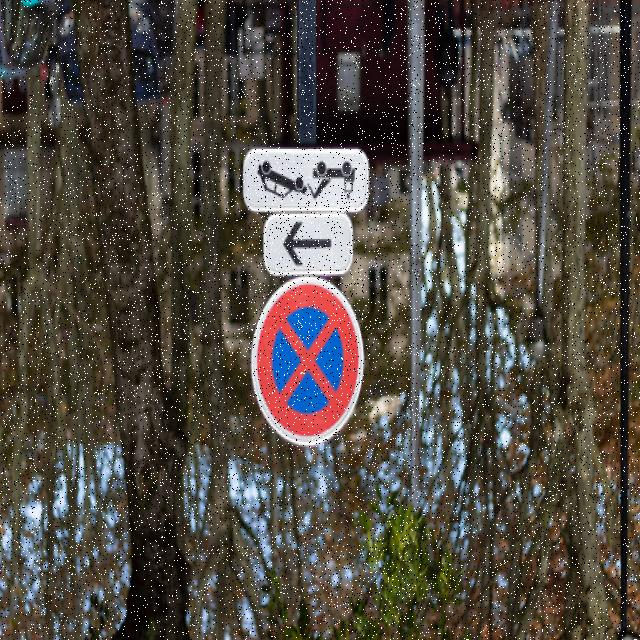no_parking: (250, 274, 364, 452)
